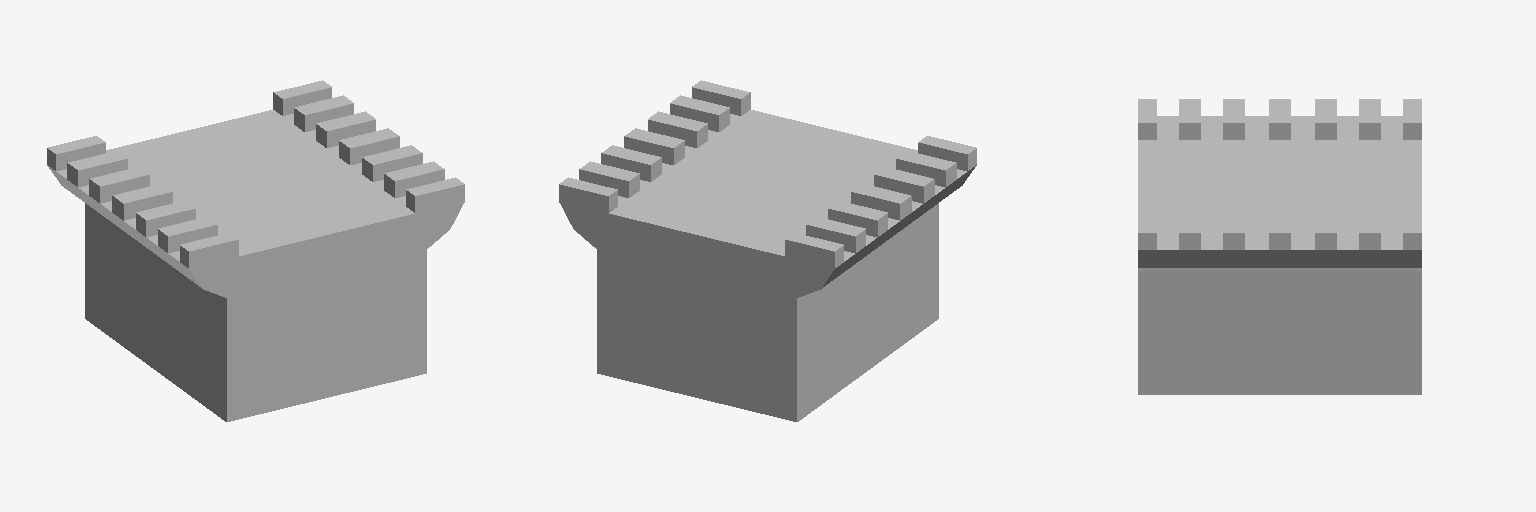
The model's file is Wall.obj.
3 views of the same model, side by side, from view 1: azimuth 30°, elevation 25°; view 2: azimuth 150°, elevation 25°; view 3: azimuth 270°, elevation 25° (orthographic).
Visible parts, largest first — view 1: pCube1 Mesh Mesh; view 2: pCube1 Mesh Mesh; view 3: pCube1 Mesh Mesh.
Part boxes in pixels (left/top/right/bottom): pCube1 Mesh Mesh: left=47, top=80, right=464, bottom=421; pCube1 Mesh Mesh: left=559, top=80, right=976, bottom=421; pCube1 Mesh Mesh: left=1138, top=99, right=1421, bottom=394.
Bounding box in the file's own units: 1.08 × 0.6752 × 0.9655.